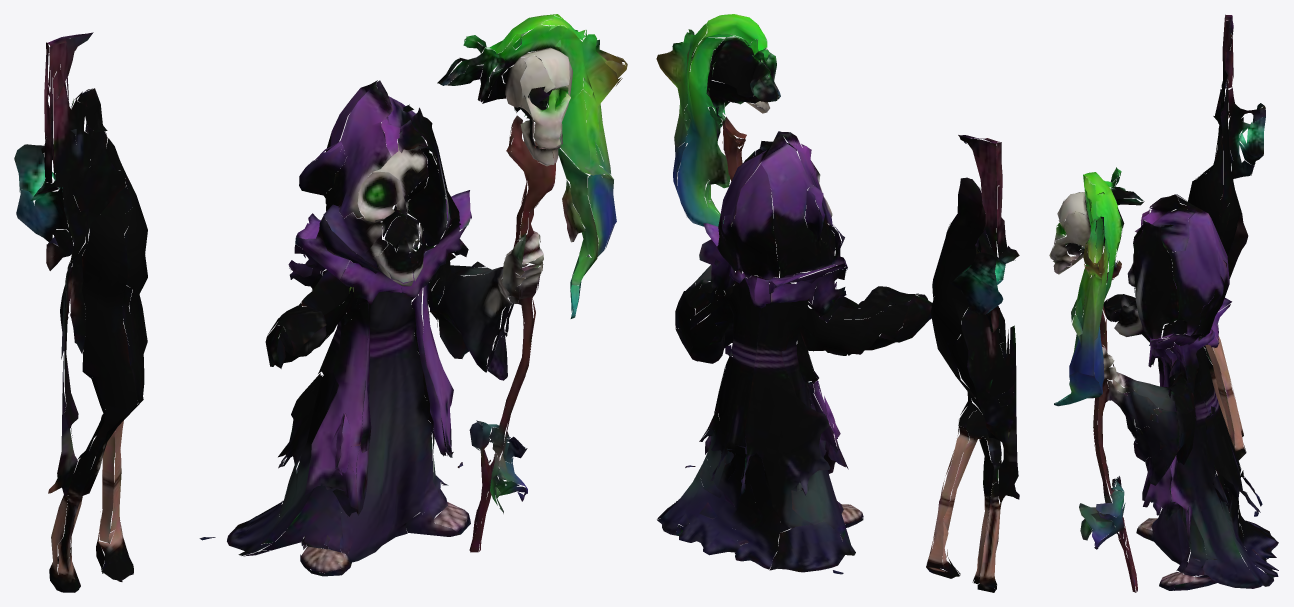
Rendered from lich.glb.
3 views of the same model, side by side, from view 1: azimuth 30°, elevation 25°; view 2: azimuth 150°, elevation 25°; view 3: azimuth 270°, elevation 25° (orthographic). The views are drawn at different scales.
Visible parts, largest first — view 1: geometry_0; view 2: geometry_0; view 3: geometry_0.
Part boxes in pixels (box(x1,y1,x2,y2)): geometry_0: box(14, 14, 627, 592); geometry_0: box(656, 14, 1019, 592); geometry_0: box(1049, 14, 1278, 592).
Bounding box in the file's own units: 0.9685 × 0.9974 × 0.4768.
Materials: 1 (1 with a texture image).
